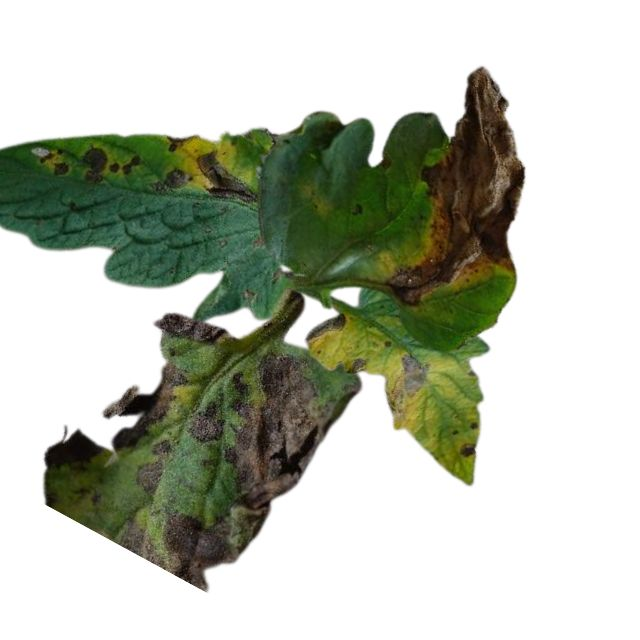Early_blight: (388, 65, 526, 308), (226, 348, 361, 502), (123, 504, 268, 591), (100, 360, 185, 448), (195, 150, 255, 205), (384, 349, 432, 413), (39, 423, 100, 465), (153, 313, 229, 346), (189, 393, 225, 442), (122, 455, 164, 496), (305, 313, 347, 343), (32, 144, 67, 176), (79, 142, 106, 183), (151, 165, 184, 193), (106, 152, 139, 175), (164, 134, 198, 153), (347, 356, 367, 375), (457, 440, 477, 458)
